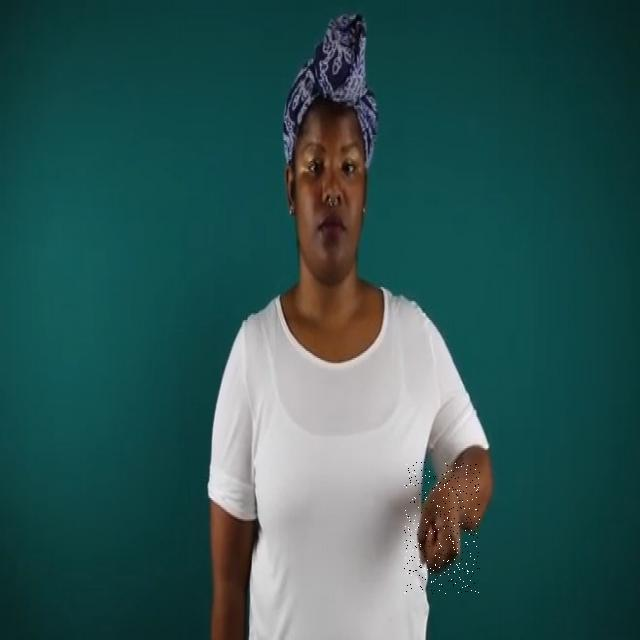bag: (404, 462, 480, 594)
